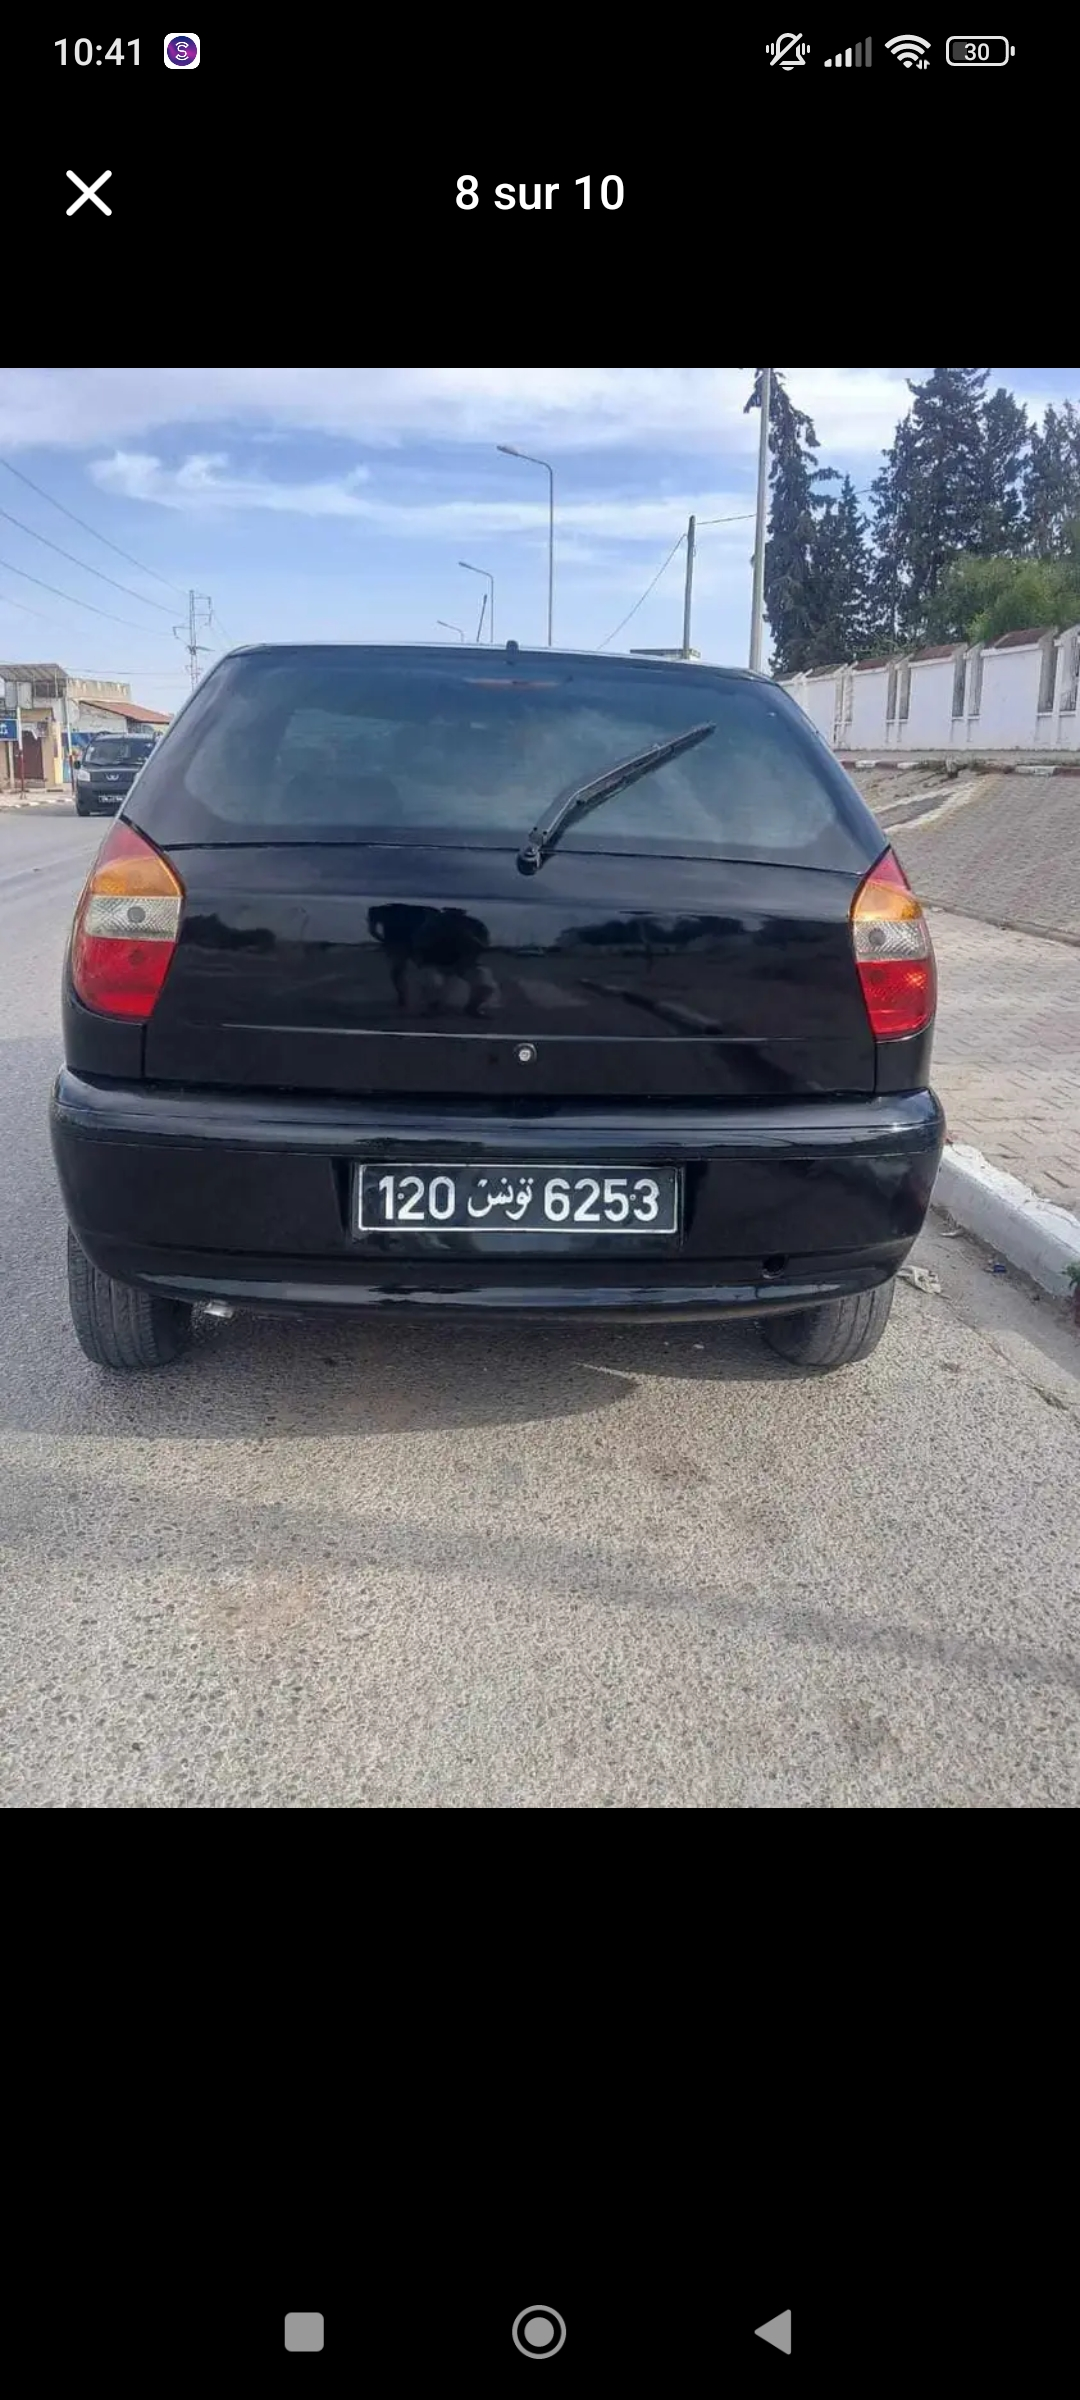peugoet: (60, 654, 945, 1407)
